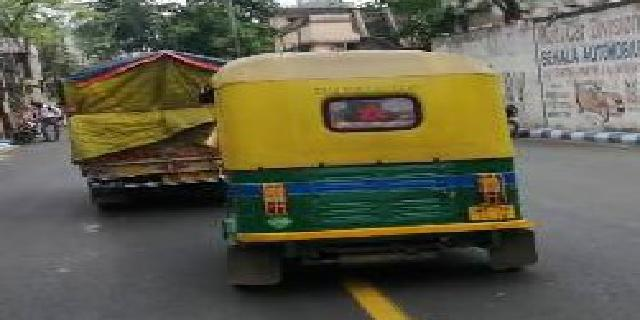Autorickshaw: (207, 50, 540, 285)
Minitruck: (60, 47, 218, 214)
